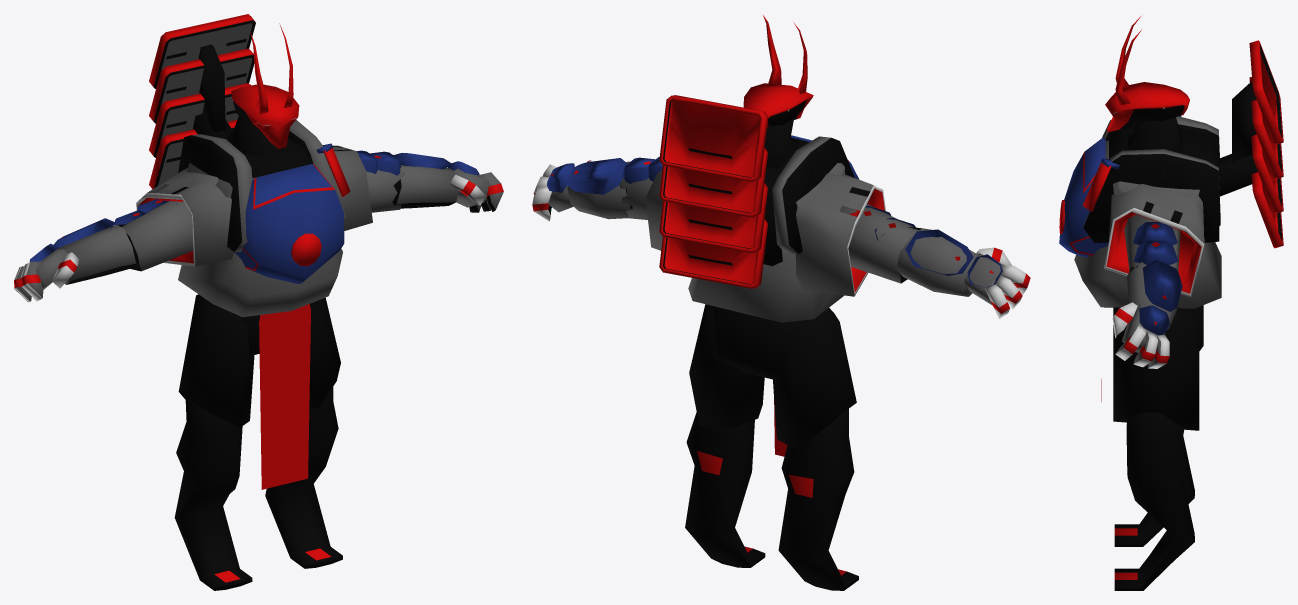
File: First_Enemy.obj
The picture shows the model from 3 angles, left to right: view 1: azimuth 30°, elevation 25°; view 2: azimuth 150°, elevation 25°; view 3: azimuth 270°, elevation 25°; orthographic projection. The views are drawn at different scales.
Parts seen in each view (by area): view 1: Cube.018, Cube.017, Cube.008, Cube.004, Cube.025, Cube.044, Cube.020, Cube.033, Cube.016, Cube.019, Cube.034, Cube.007 (+11 smaller); view 2: Cube.018, Cube.020, Cube.044, Cube.004, Cube.003, Cube.025, Cube.019, Cube.010, Cube.011, Cube.033, Cube.034, Cube.016 (+8 smaller); view 3: Cube.018, Cube.025, Cube.005, Cube.004, Cube.016, Cube.017, Cube.020, Cube.028, Cube.015, Cube.024, Cube.009, Cube.012 (+15 smaller).
Boxes of the visible parts, x1=… form: Cube.018: x1=174, y1=294, x2=342, y2=590; Cube.017: x1=235, y1=164, x2=344, y2=283; Cube.008: x1=259, y1=304, x2=310, y2=489; Cube.004: x1=178, y1=162, x2=342, y2=317; Cube.025: x1=178, y1=120, x2=346, y2=252; Cube.044: x1=136, y1=168, x2=233, y2=266; Cube.020: x1=149, y1=14, x2=255, y2=88; Cube.033: x1=121, y1=201, x2=193, y2=271; Cube.016: x1=231, y1=23, x2=299, y2=148; Cube.019: x1=149, y1=48, x2=254, y2=123; Cube.034: x1=57, y1=224, x2=138, y2=284; Cube.007: x1=392, y1=165, x2=458, y2=208; Cube.018: x1=685, y1=304, x2=858, y2=590; Cube.020: x1=659, y1=95, x2=767, y2=181; Cube.044: x1=795, y1=173, x2=885, y2=296; Cube.004: x1=688, y1=163, x2=844, y2=322; Cube.003: x1=713, y1=306, x2=795, y2=379; Cube.025: x1=772, y1=136, x2=854, y2=253; Cube.019: x1=659, y1=147, x2=768, y2=217; Cube.010: x1=659, y1=219, x2=767, y2=288; Cube.011: x1=659, y1=183, x2=768, y2=252; Cube.033: x1=839, y1=204, x2=918, y2=283; Cube.034: x1=896, y1=226, x2=977, y2=296; Cube.016: x1=743, y1=15, x2=813, y2=127; Cube.018: x1=1113, y1=307, x2=1199, y2=590; Cube.025: x1=1083, y1=116, x2=1220, y2=242; Cube.005: x1=1104, y1=184, x2=1204, y2=296; Cube.004: x1=1074, y1=140, x2=1221, y2=308; Cube.016: x1=1105, y1=16, x2=1189, y2=132; Cube.017: x1=1059, y1=137, x2=1108, y2=257; Cube.020: x1=1249, y1=40, x2=1283, y2=145; Cube.028: x1=1143, y1=260, x2=1182, y2=311; Cube.015: x1=1128, y1=117, x2=1182, y2=153; Cube.024: x1=1232, y1=81, x2=1256, y2=161; Cube.009: x1=1109, y1=129, x2=1219, y2=242; Cube.012: x1=1219, y1=154, x2=1257, y2=196.
Size of the model in its own units: 1.48 by 1.61 by 0.6071.
